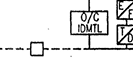Cable Termination Box: (27, 40, 51, 60)
